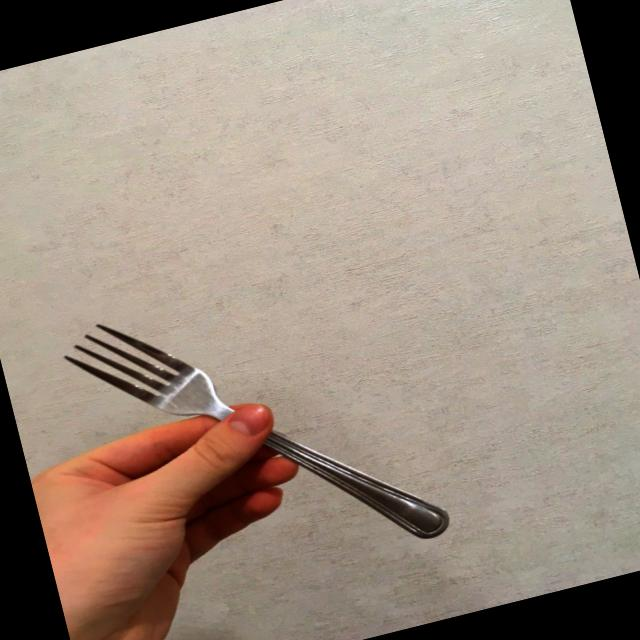fork: (56, 250, 452, 612)
